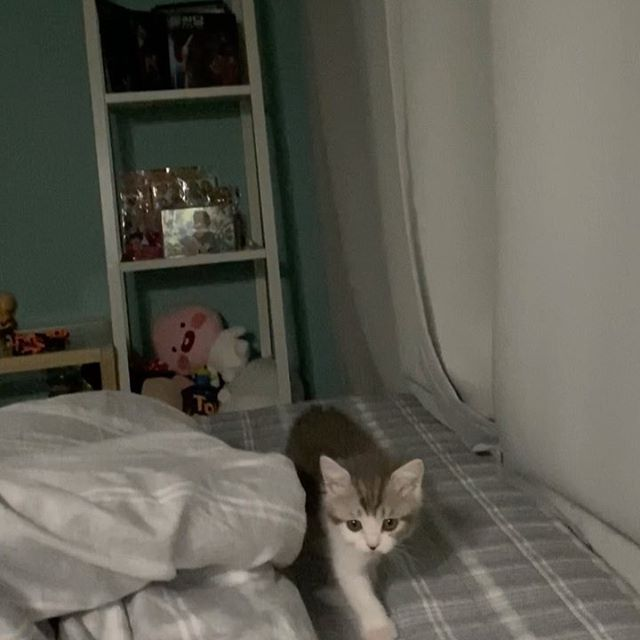cat: (316, 453, 425, 563)
